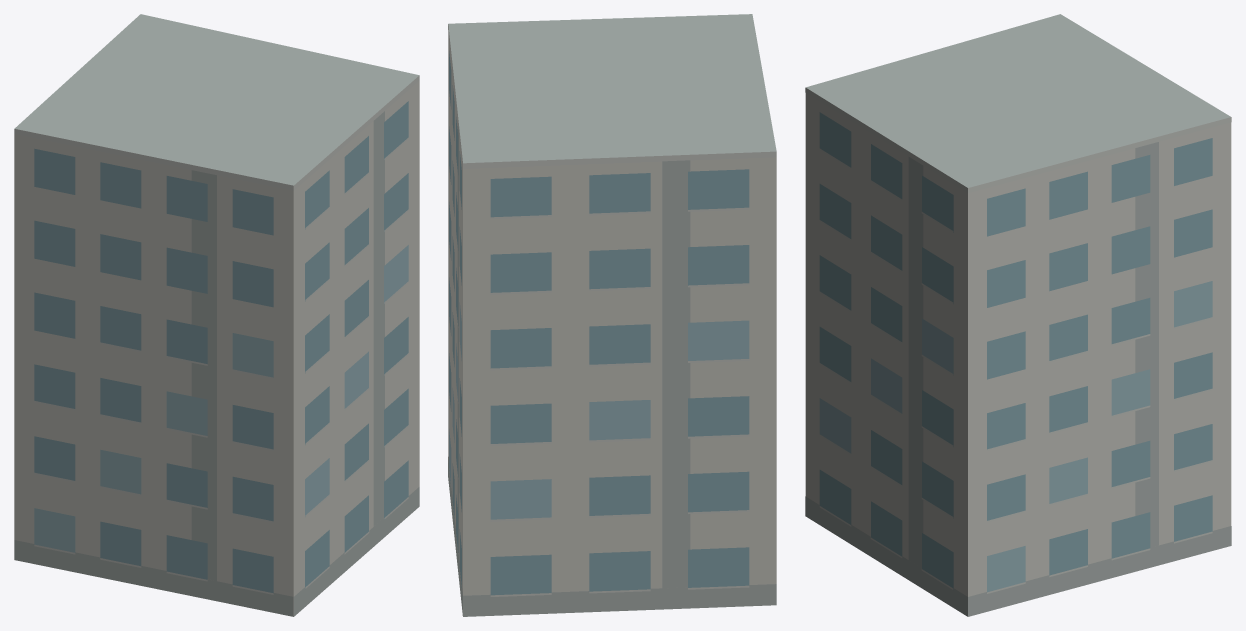
The model's file is residential-8a6707d6-63ba-4855-972e-fd4520ec6dcf.glb.
The picture shows the model from 3 angles, left to right: view 1: azimuth 30°, elevation 25°; view 2: azimuth 150°, elevation 25°; view 3: azimuth 270°, elevation 25°; orthographic projection. The views are drawn at different scales.
Parts seen in each view (by area): view 1: residential-8a6707d6-63ba-4855-972e-fd4520ec6dcf.tmp; view 2: residential-8a6707d6-63ba-4855-972e-fd4520ec6dcf.tmp; view 3: residential-8a6707d6-63ba-4855-972e-fd4520ec6dcf.tmp.
Boxes of the visible parts, x1,y1,x2,y2 form: residential-8a6707d6-63ba-4855-972e-fd4520ec6dcf.tmp: [14, 14, 419, 616]; residential-8a6707d6-63ba-4855-972e-fd4520ec6dcf.tmp: [448, 14, 776, 616]; residential-8a6707d6-63ba-4855-972e-fd4520ec6dcf.tmp: [805, 14, 1231, 616].
Size of the model in its own units: 17.42 by 20 by 18.01.
